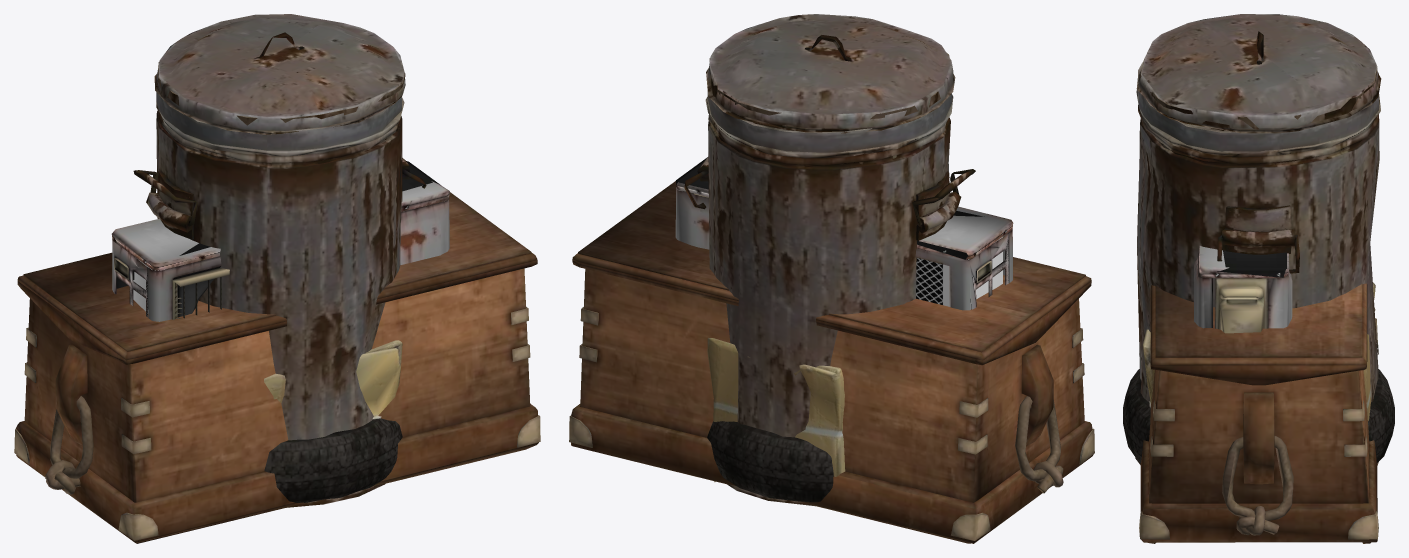
Rendered from heron-reach-world-props.glb.
The picture shows the model from 3 angles, left to right: view 1: azimuth 30°, elevation 25°; view 2: azimuth 150°, elevation 25°; view 3: azimuth 270°, elevation 25°; orthographic projection.
Parts seen in each view (by area): view 1: WORLD_WOODEN_CRATE_geometry, WORLD_BIN_RUST_geometry, WORLD_AIRCON_RUST_geometry, WORLD_TYRE_geometry, WORLD_CARDBOARD_BOX_geometry; view 2: WORLD_WOODEN_CRATE_geometry, WORLD_BIN_RUST_geometry, WORLD_AIRCON_RUST_geometry, WORLD_TYRE_geometry, WORLD_CARDBOARD_BOX_geometry; view 3: WORLD_BIN_RUST_geometry, WORLD_WOODEN_CRATE_geometry, WORLD_AIRCON_RUST_geometry, WORLD_TYRE_geometry, WORLD_CARDBOARD_BOX_geometry.
Boxes of the visible parts, box(x1,y1,x2,y2) form: WORLD_WOODEN_CRATE_geometry: box(14, 192, 540, 543); WORLD_BIN_RUST_geometry: box(133, 14, 426, 507); WORLD_AIRCON_RUST_geometry: box(111, 161, 449, 321); WORLD_TYRE_geometry: box(264, 418, 402, 502); WORLD_CARDBOARD_BOX_geometry: box(264, 340, 402, 419); WORLD_WOODEN_CRATE_geometry: box(569, 181, 1094, 543); WORLD_BIN_RUST_geometry: box(684, 14, 975, 506); WORLD_AIRCON_RUST_geometry: box(675, 157, 1013, 310); WORLD_TYRE_geometry: box(707, 421, 833, 502); WORLD_CARDBOARD_BOX_geometry: box(707, 338, 845, 482); WORLD_BIN_RUST_geometry: box(1135, 14, 1381, 465); WORLD_WOODEN_CRATE_geometry: box(1139, 283, 1378, 543); WORLD_AIRCON_RUST_geometry: box(1194, 245, 1292, 333); WORLD_TYRE_geometry: box(1123, 369, 1394, 463); WORLD_CARDBOARD_BOX_geometry: box(1142, 282, 1375, 420).
Size of the model in its own units: 1.16 by 1.01 by 0.6.
7 materials, 7 textured.
